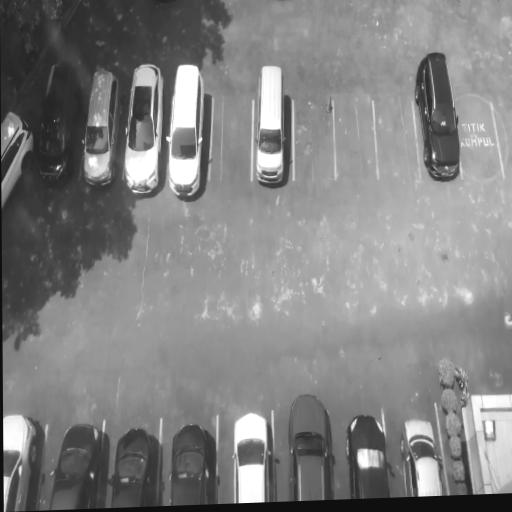Car: (407, 45, 464, 185), (34, 57, 86, 187), (121, 62, 166, 196), (166, 58, 205, 201), (79, 69, 125, 189), (46, 416, 104, 510), (285, 390, 332, 502), (253, 56, 290, 188), (229, 409, 274, 504), (343, 413, 390, 499), (109, 425, 156, 508), (1, 105, 36, 216), (167, 420, 212, 506), (3, 411, 40, 512), (399, 417, 444, 497)
Space Available: (208, 93, 253, 182), (373, 99, 420, 180), (456, 101, 503, 178), (334, 97, 378, 179), (293, 98, 336, 180)
